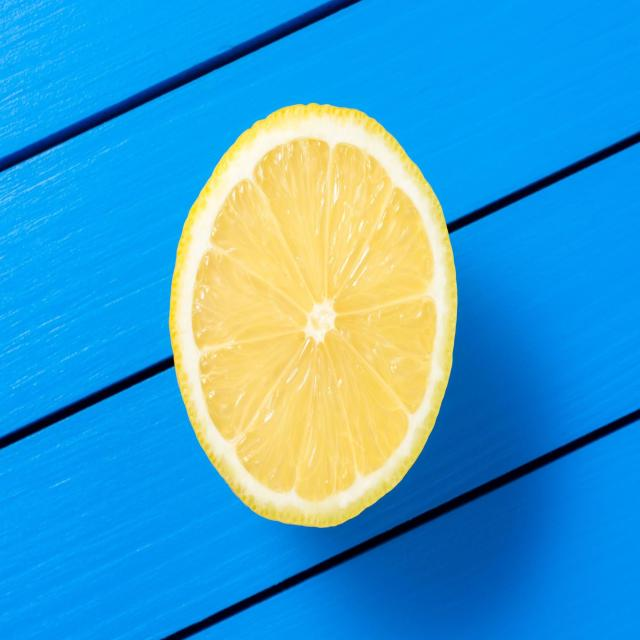lemon: (163, 91, 464, 533)
